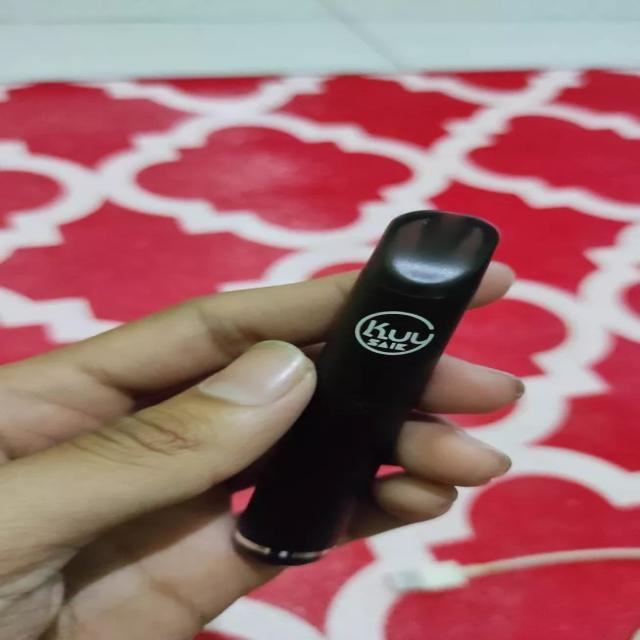Hazard: (228, 212, 504, 566)
